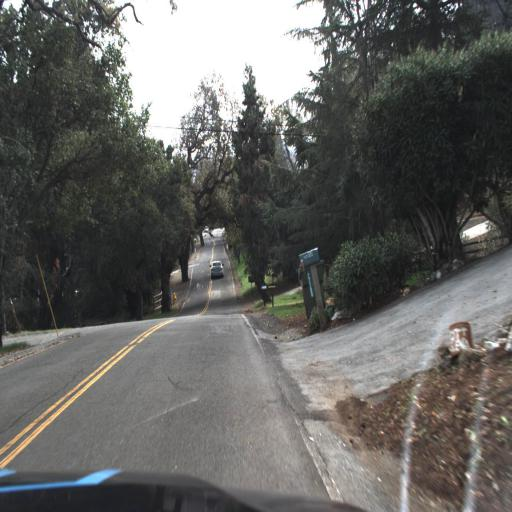car: (206, 258, 228, 282)
